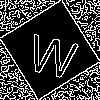W: (25, 25, 82, 80)
